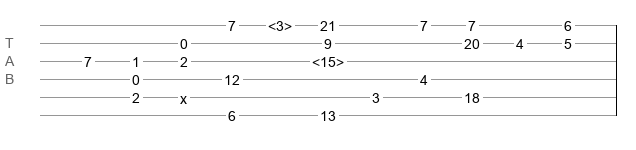0: (132, 72, 140, 82), (180, 36, 188, 46)
1: (132, 54, 140, 64)
12: (224, 72, 240, 82)
13: (320, 108, 336, 118)
18: (464, 90, 480, 100)
2: (132, 90, 140, 100), (180, 54, 188, 64)
20: (464, 36, 480, 46)
21: (320, 18, 336, 28)
3: (372, 90, 380, 100)
4: (420, 72, 428, 82), (516, 36, 524, 46)
5: (564, 36, 572, 46)
6: (228, 108, 236, 118), (564, 18, 572, 28)
7: (84, 54, 92, 64), (228, 18, 236, 28), (420, 18, 428, 28), (468, 18, 476, 28)
9: (324, 36, 332, 46)
harmonic: (312, 54, 344, 64), (268, 18, 292, 28)
x: (180, 91, 187, 99)
